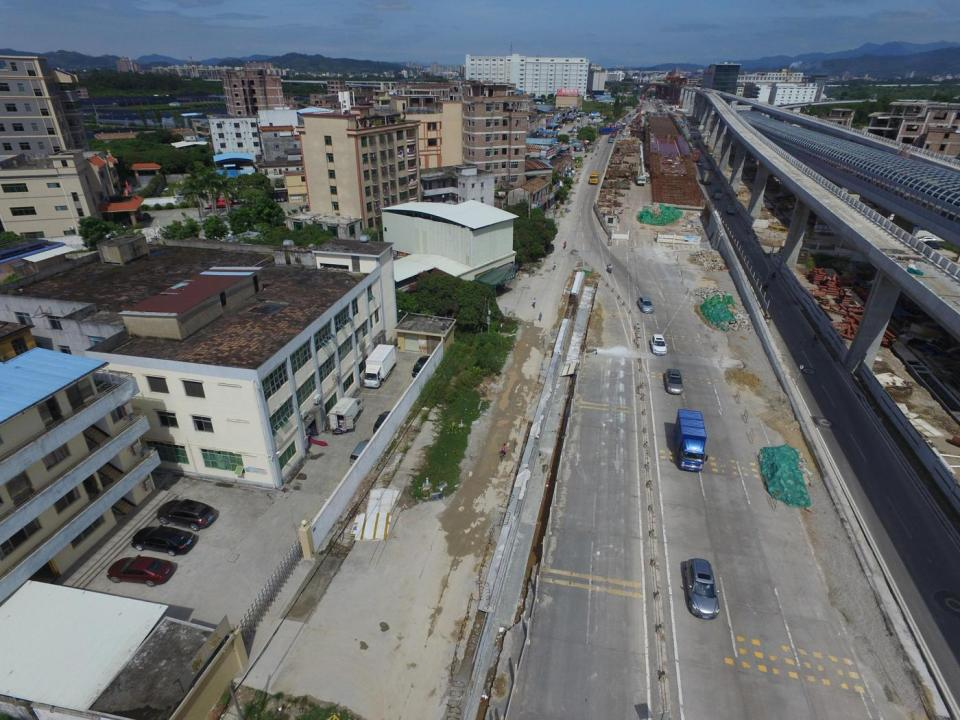car: (682, 558, 721, 621), (154, 498, 216, 532), (110, 556, 172, 588), (133, 524, 197, 555), (350, 438, 378, 469), (662, 369, 685, 396), (373, 411, 392, 435), (411, 355, 430, 378), (649, 333, 665, 354), (638, 295, 653, 313), (698, 162, 702, 166), (619, 130, 623, 134), (622, 132, 626, 135)
truck: (674, 411, 708, 471), (363, 343, 398, 389), (329, 395, 360, 432), (633, 169, 645, 186), (701, 170, 712, 186), (691, 146, 701, 162), (589, 170, 599, 184), (712, 189, 722, 200), (599, 128, 612, 135), (726, 205, 734, 215), (608, 136, 613, 144), (611, 130, 616, 137)
